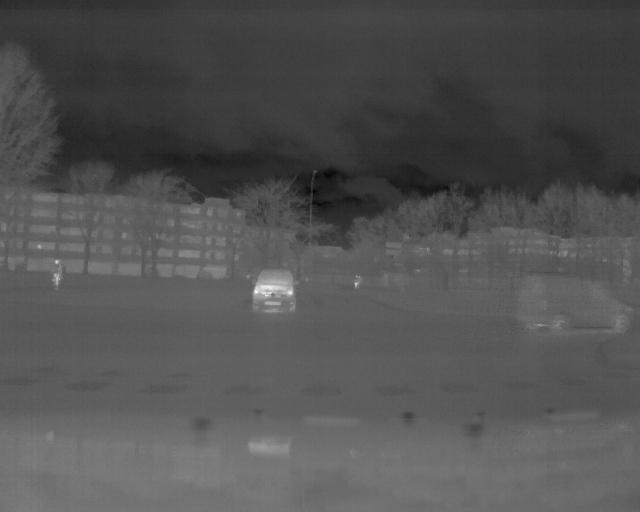car: (514, 270, 638, 342), (252, 265, 300, 313)
person: (51, 257, 63, 291), (351, 269, 363, 291)
